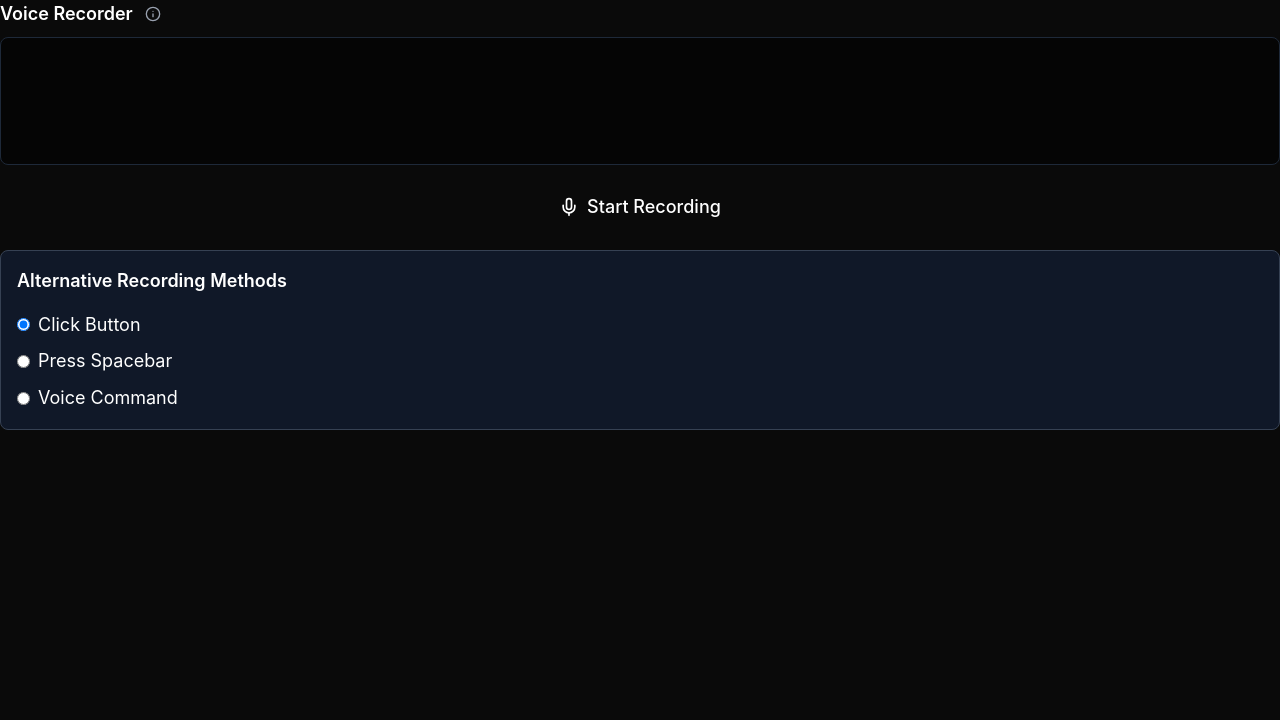
Test: Recorder Component › stores a recorded clip and reveals playback and trim controls
Click the button with test id "record-button" at (640, 207), box [535,181,745,234]
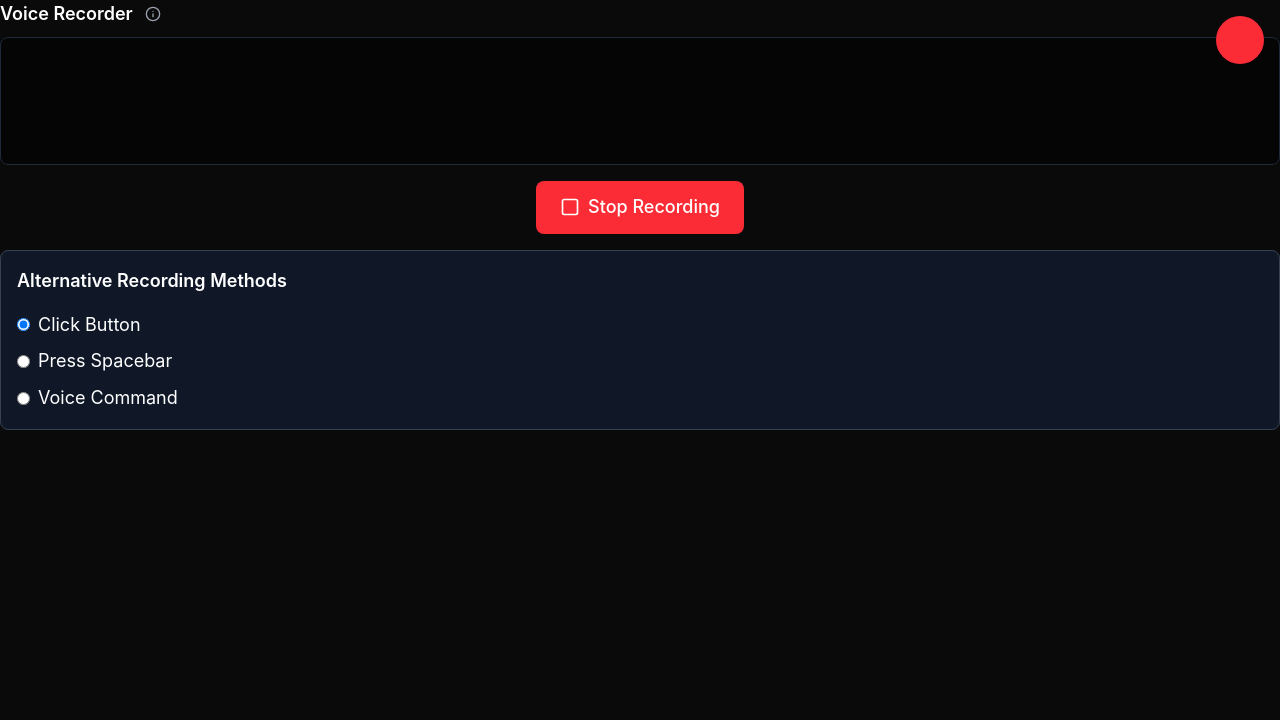
Click the button with test id "stop-button" at (640, 207), box [536,181,744,234]
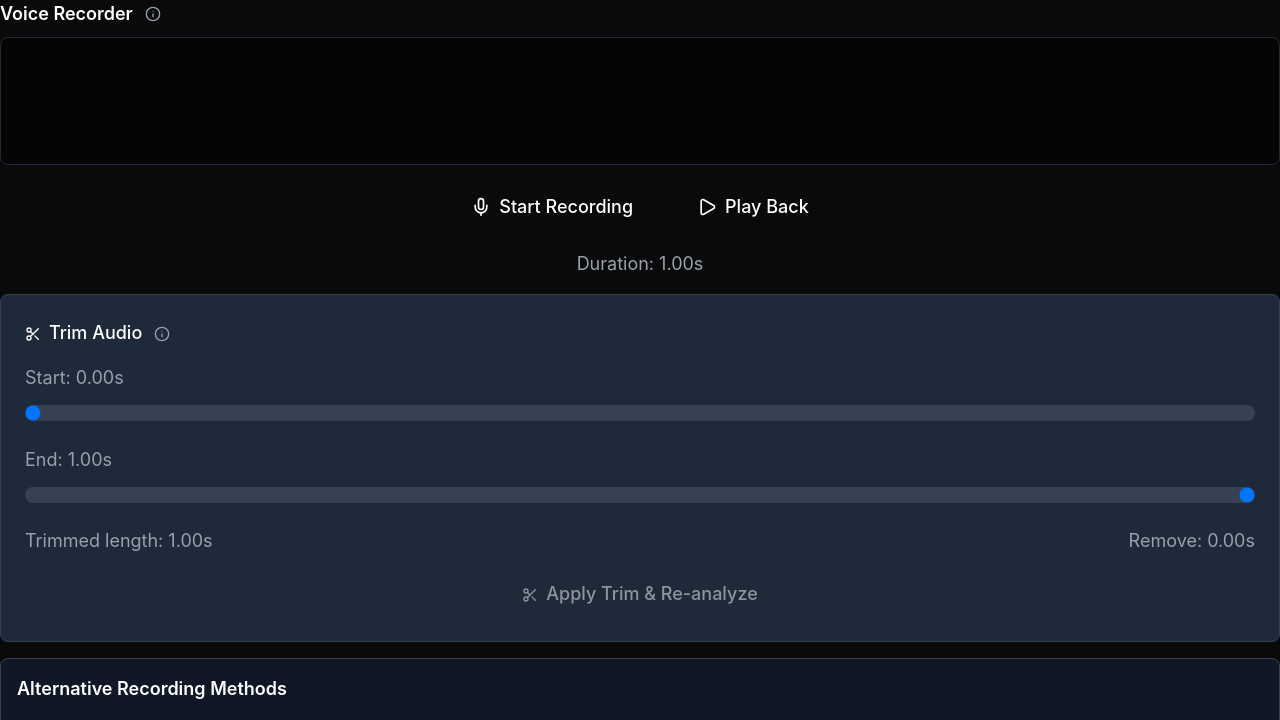
Expected: the button with test id "play-button" reads "Play Back", [673,181,833,234]
Expected: the message with test id "audio-duration" shows "Duration:", [577,253,659,274]
Expected: the element with test id "trim-controls" is shown, [0,294,1279,642]
